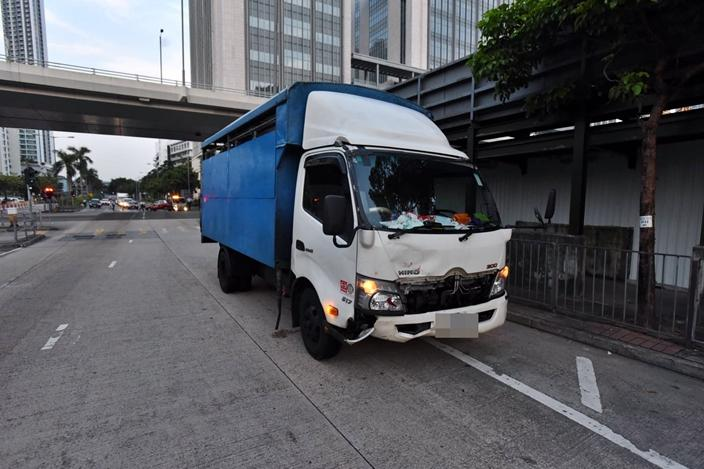Car: (175, 71, 533, 366)
